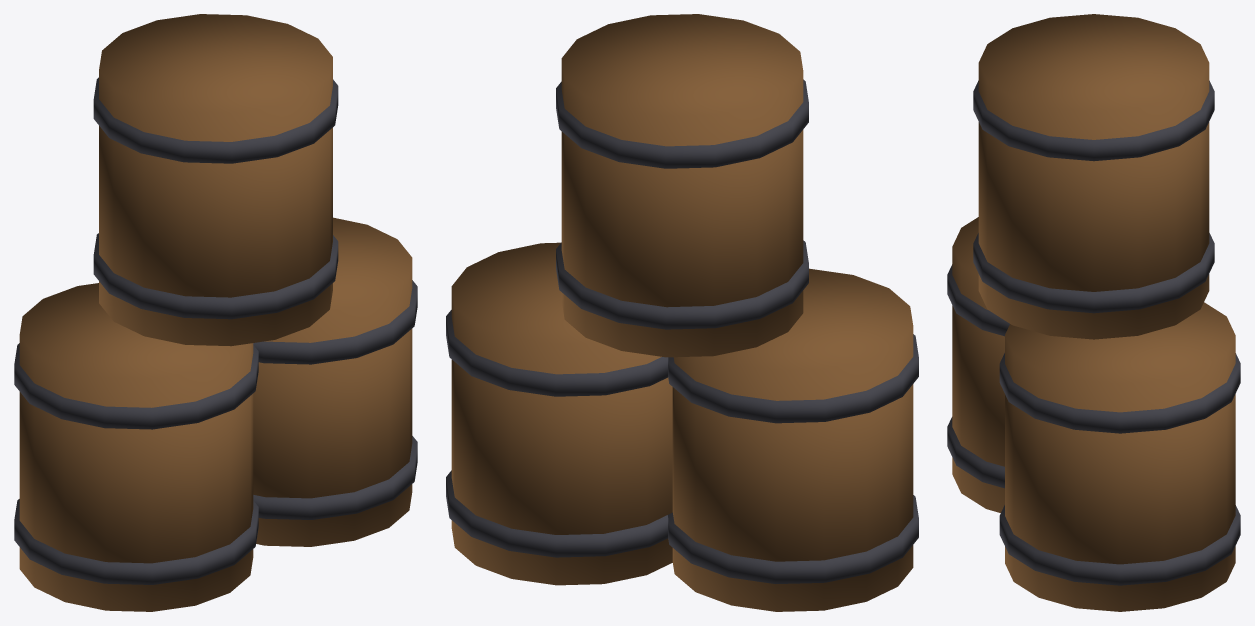
Rendered from town_barrel_stack.obj.
3 renders of one model, left to right at view 1: azimuth 30°, elevation 25°; view 2: azimuth 150°, elevation 25°; view 3: azimuth 270°, elevation 25°, orthographic. The views are drawn at different scales.
Visible parts, largest first — view 1: town_barrel_stack; view 2: town_barrel_stack; view 3: town_barrel_stack.
Boxes of the visible parts, x1,y1,x2,y2 form: town_barrel_stack: [14, 14, 417, 611]; town_barrel_stack: [446, 14, 918, 611]; town_barrel_stack: [947, 14, 1240, 611].
Bounding box in the file's own units: 0.86 × 0.96 × 0.56.
